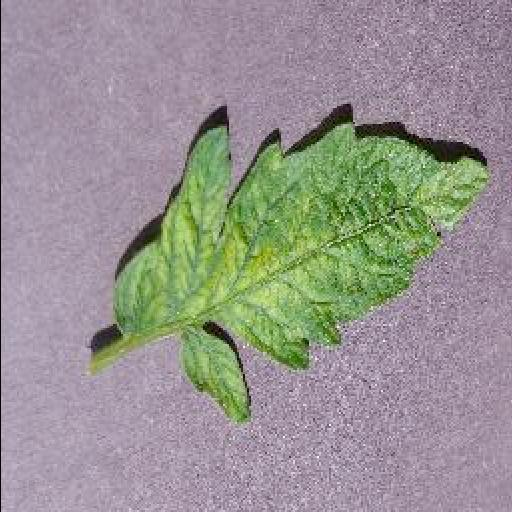disease_tomato: (114, 114, 500, 426)
